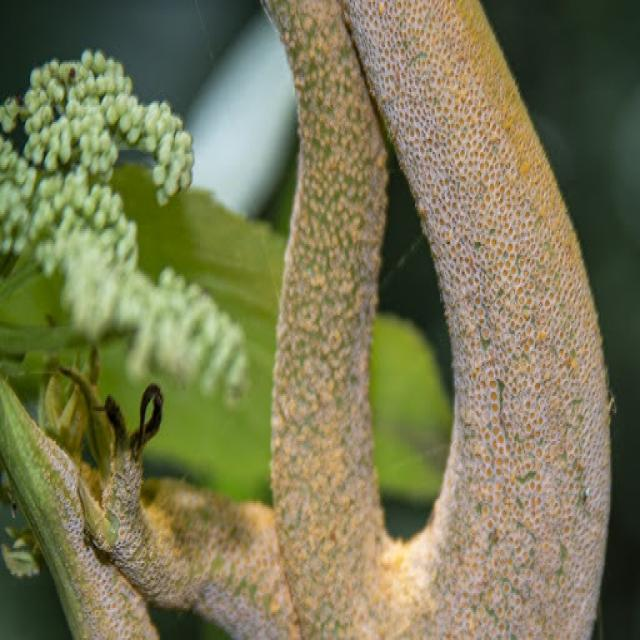Elderberry_rust: (0, 0, 616, 638)
